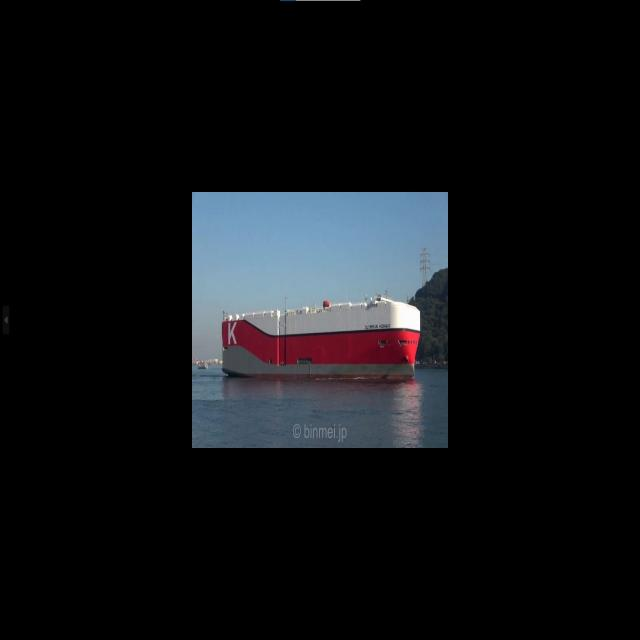ship: (220, 298, 419, 382)
